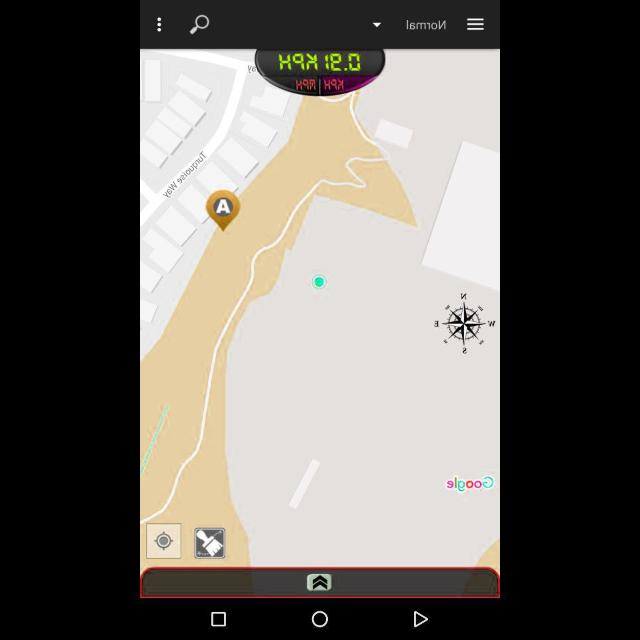icon: (190, 13, 208, 35), (468, 16, 484, 32), (312, 612, 328, 628), (413, 612, 427, 628), (212, 612, 226, 628), (156, 15, 164, 32)
map: (140, 49, 500, 597)
panel: (140, 600, 500, 638)
spinner: (372, 18, 448, 34)
toolbar: (140, 0, 500, 48)
